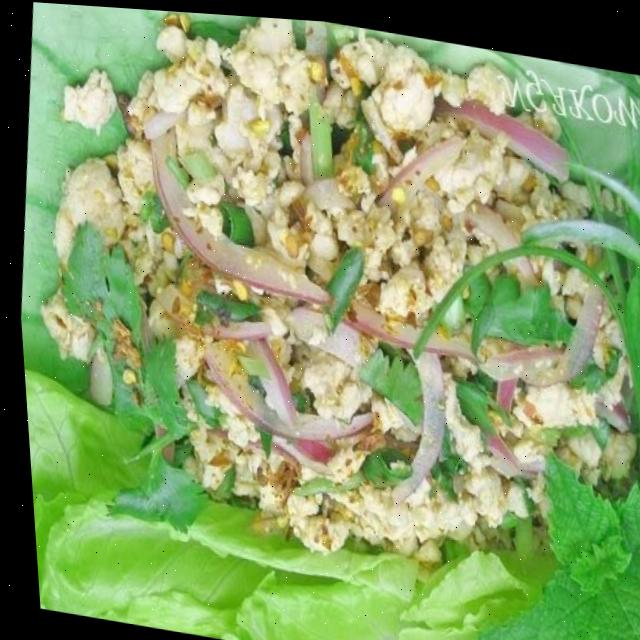鸡肉料理 含炸鸡: (6, 4, 640, 640)
